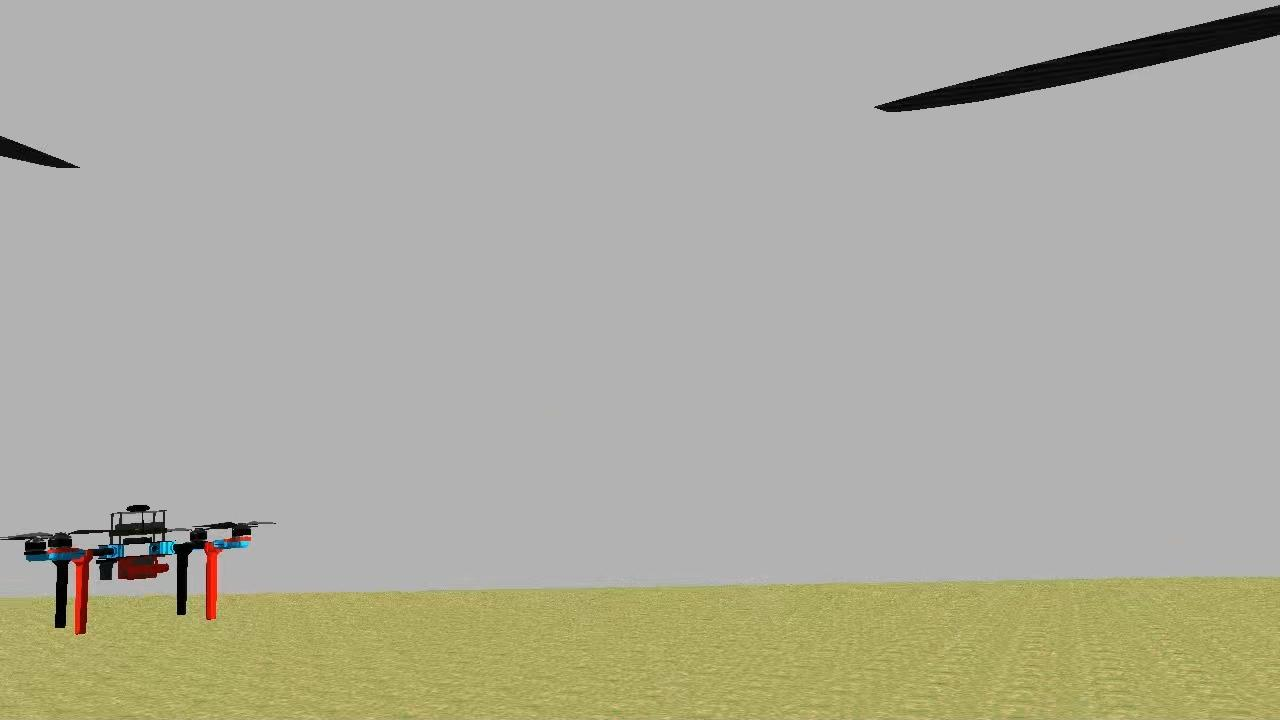UAV: (15, 493, 258, 643)
